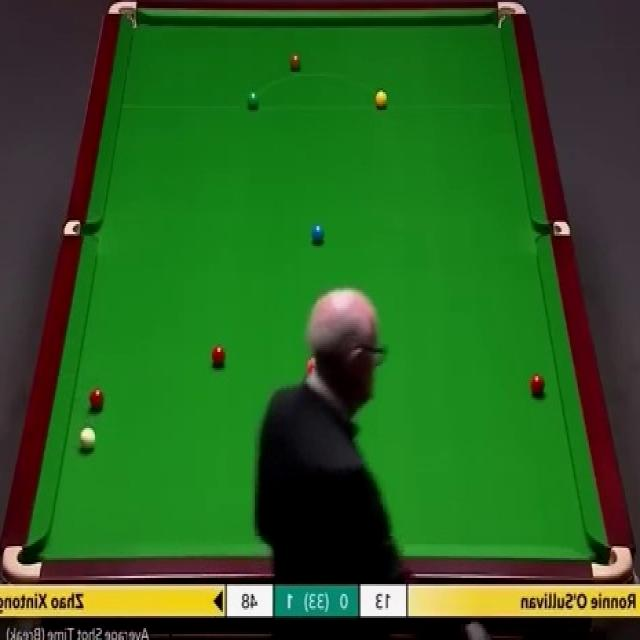blue-ball: (313, 225, 324, 245)
brown-ball: (288, 53, 304, 73)
green-ball: (247, 89, 260, 110)
red-ball: (89, 387, 104, 412), (530, 376, 547, 398), (212, 345, 226, 367)
white-ball: (80, 427, 98, 453)
yellow-ball: (375, 89, 389, 110)
